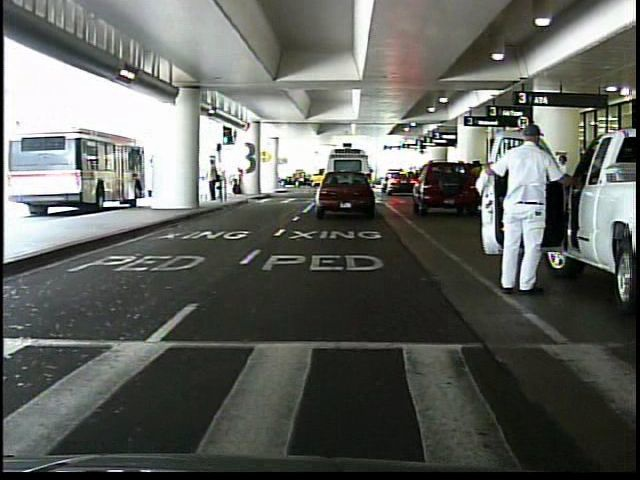person: (484, 119, 566, 299), (546, 149, 575, 226), (206, 155, 221, 204), (231, 163, 247, 199), (466, 157, 482, 180)
